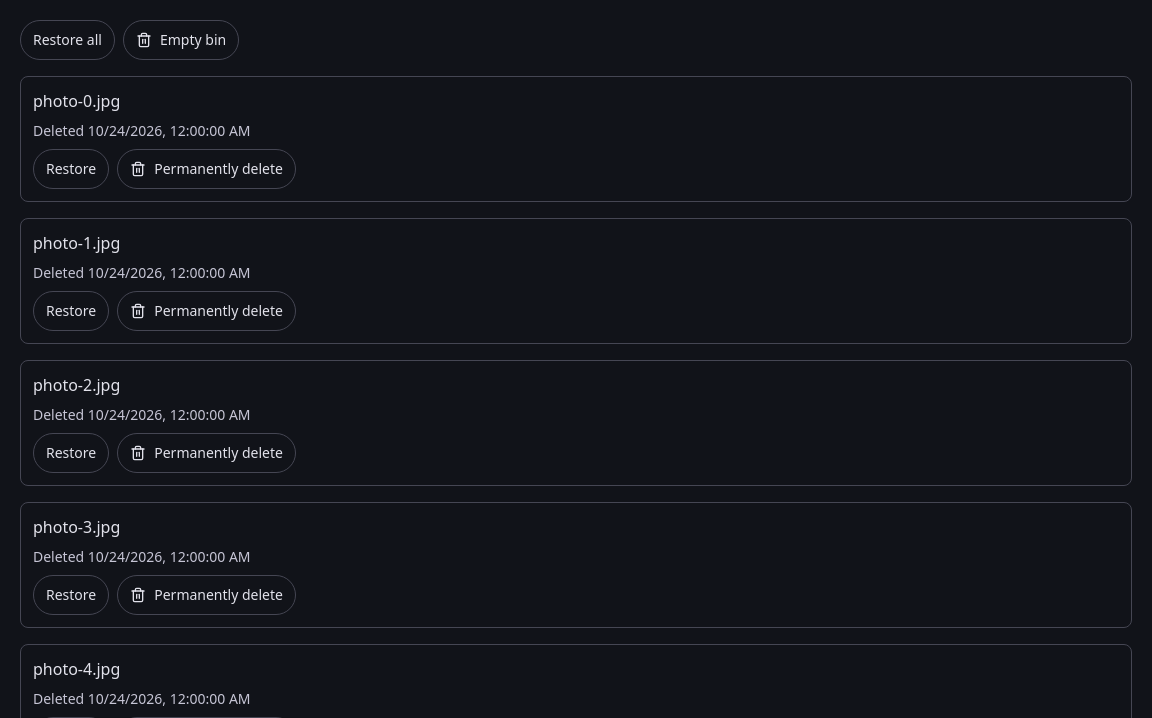
Test: Empty bin includes older pages and submits each item once
Check: the text "photo-0.jpg" is shown, box top-left (33, 90), bottom-right (120, 112)
Click the button "Empty bin". click: (181, 40)
box: top-left (123, 20), bottom-right (239, 60)
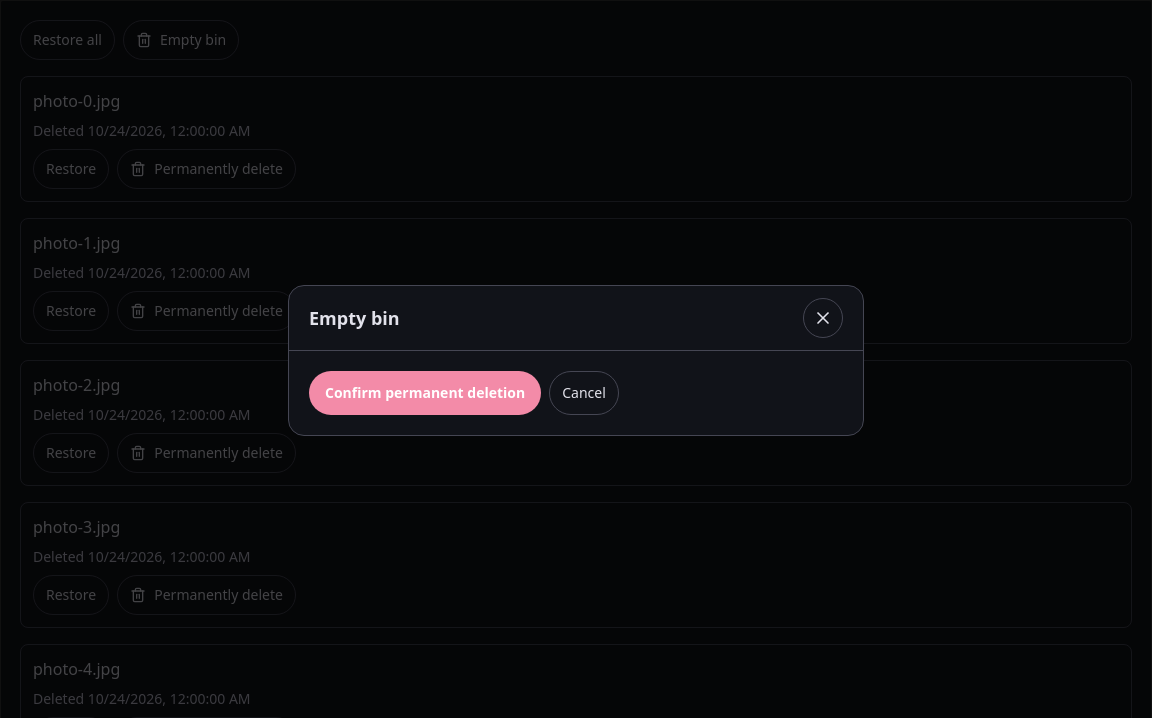
Click the button "Confirm permanent deletion". click: (425, 392)
box: top-left (309, 370), bottom-right (541, 414)
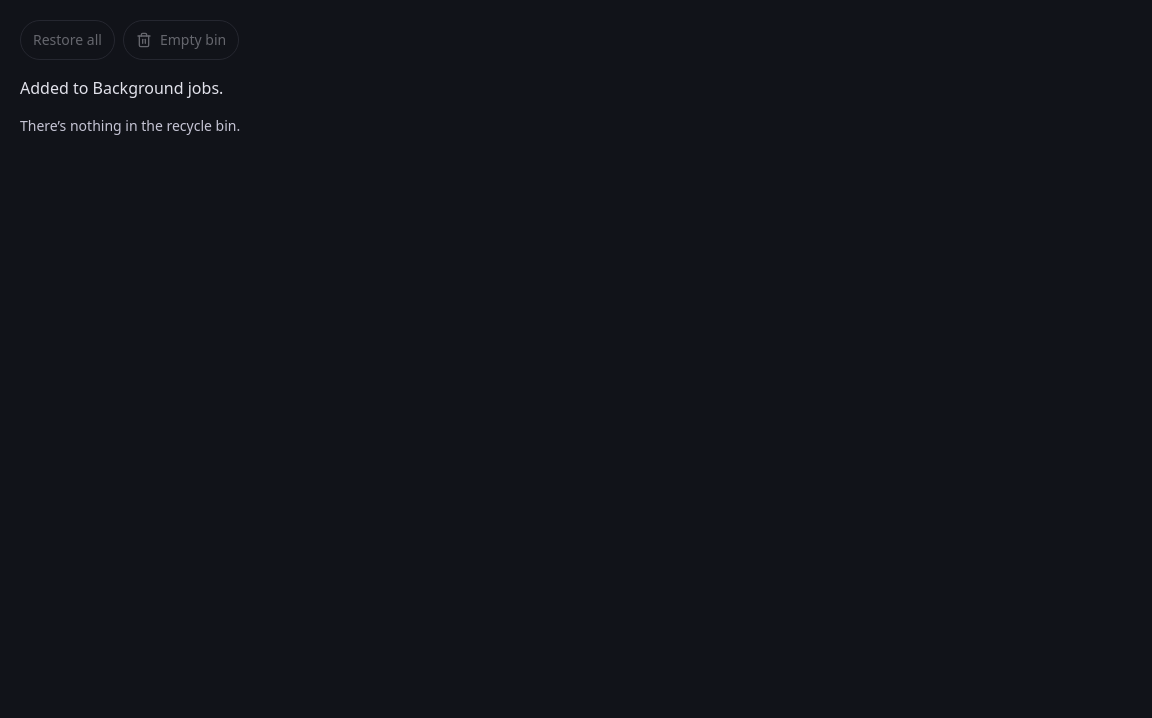
Check: the text "There’s nothing in the recycle bin." is shown, box top-left (20, 116), bottom-right (240, 135)
